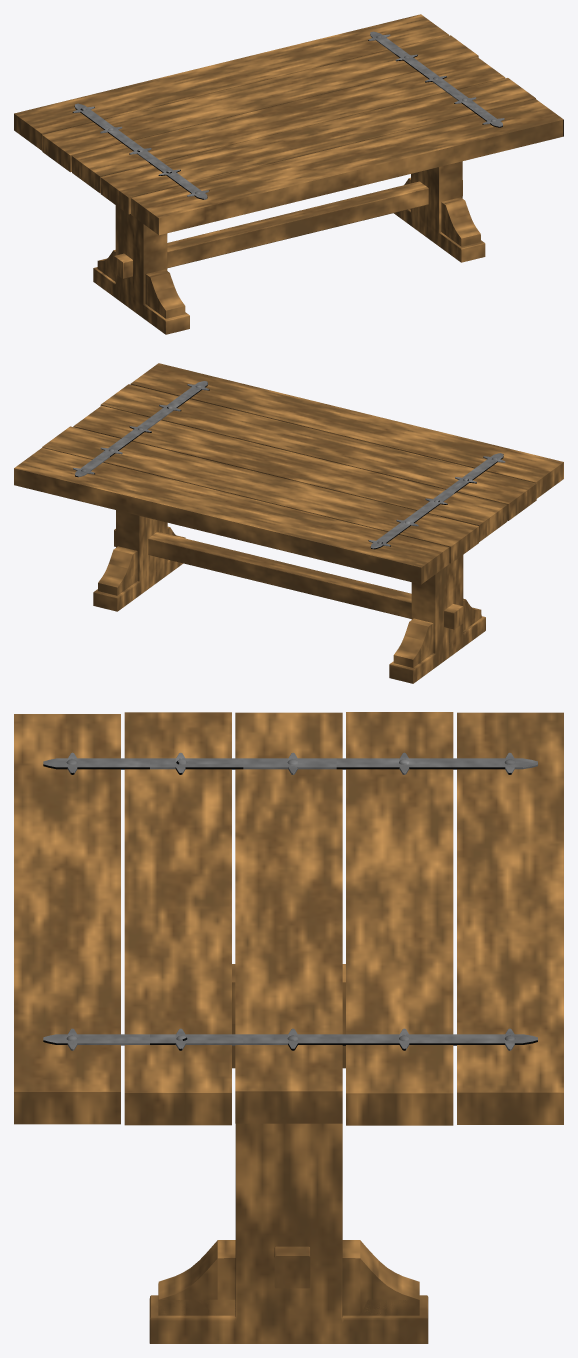
File: table2.obj
3 renders of one model, top to bottom at view 1: azimuth 30°, elevation 25°; view 2: azimuth 150°, elevation 25°; view 3: azimuth 270°, elevation 25°, orthographic. The views are drawn at different scales.
Parts seen in each view (by area): view 1: Cube.013, Cube.015, Cube.016, Cube, Cube.014, Cube.003, Cube.002, Cube.001, Plane.001, Plane; view 2: Cube.015, Cube.013, Cube.016, Cube, Cube.014, Cube.003, Cube.002, Cube.001, Plane.001, Plane; view 3: Cube.015, Cube, Cube.016, Cube.013, Cube.014, Cube.001, Plane.001, Plane, Cube.003.
Part boxes in pixels (box(x1,y1,x2,y2)): Cube.013: box(131, 99, 563, 235); Cube.015: box(14, 14, 448, 150); Cube.016: box(42, 35, 478, 172); Cube: box(100, 78, 535, 214); Cube.014: box(72, 57, 505, 192); Cube.003: box(113, 180, 462, 278); Cube.002: box(93, 205, 189, 334); Cube.001: box(394, 161, 485, 262); Plane.001: box(72, 103, 209, 199); Plane: box(368, 31, 504, 127); Cube.015: box(14, 448, 449, 584); Cube.013: box(130, 363, 563, 498); Cube.016: box(42, 426, 478, 563); Cube: box(100, 384, 536, 520); Cube.014: box(73, 405, 507, 541); Cube.003: box(114, 529, 463, 629); Cube.002: box(389, 555, 485, 683); Cube.001: box(93, 510, 185, 611); Plane.001: box(368, 453, 505, 549); Plane: box(73, 381, 209, 477); Cube.015: box(457, 712, 563, 1124); Cube: box(124, 712, 231, 1125); Cube.016: box(346, 712, 453, 1125); Cube.013: box(14, 714, 120, 1124); Cube.014: box(235, 712, 342, 1123); Cube.001: box(149, 1123, 428, 1343); Plane.001: box(43, 752, 537, 774); Plane: box(43, 1028, 537, 1050); Cube.003: box(274, 1246, 310, 1288).
Size of the model in its own units: 2.53 by 0.9157 by 1.54.
2 materials, 2 textured.
